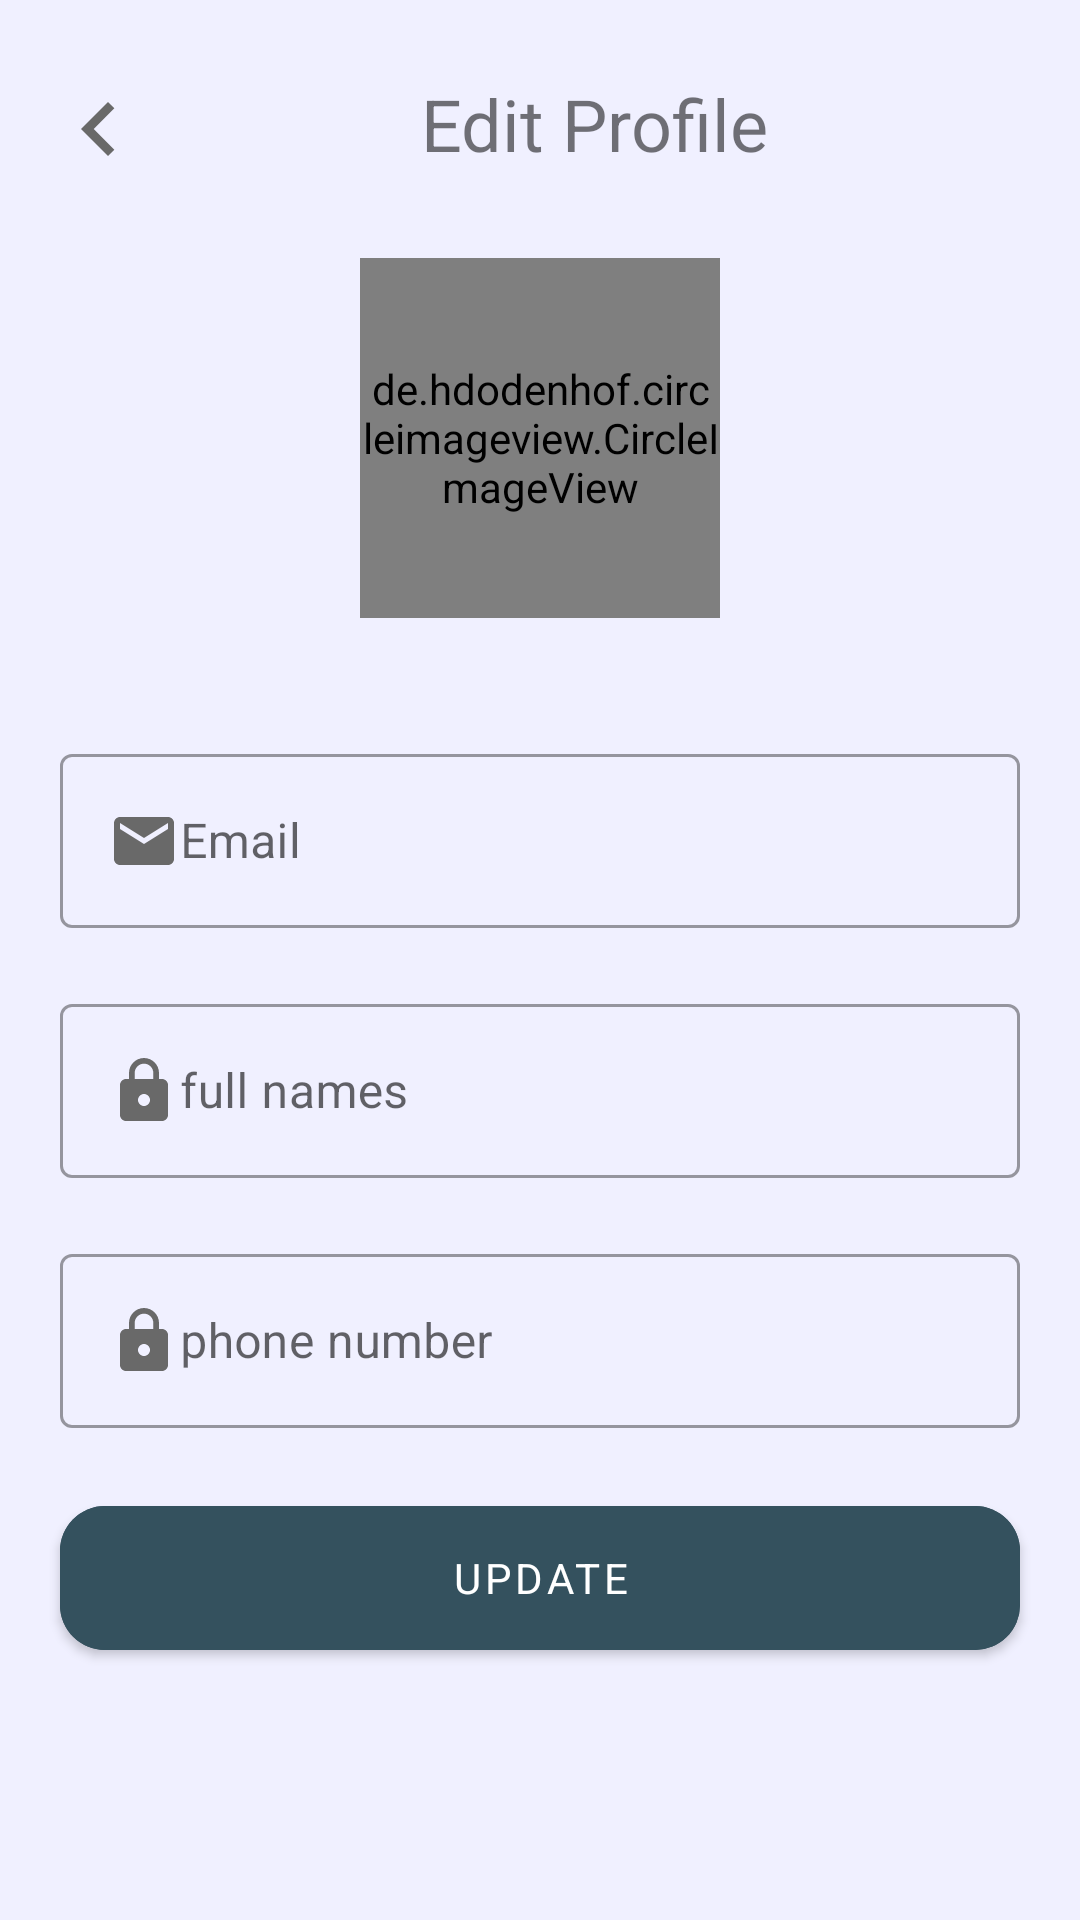

Screen size 1080px x 1920px. Icon name, then its box in pixels as bbox=[x1, y1, x2, y2]:
navigate before: bbox=[81, 102, 114, 156]
